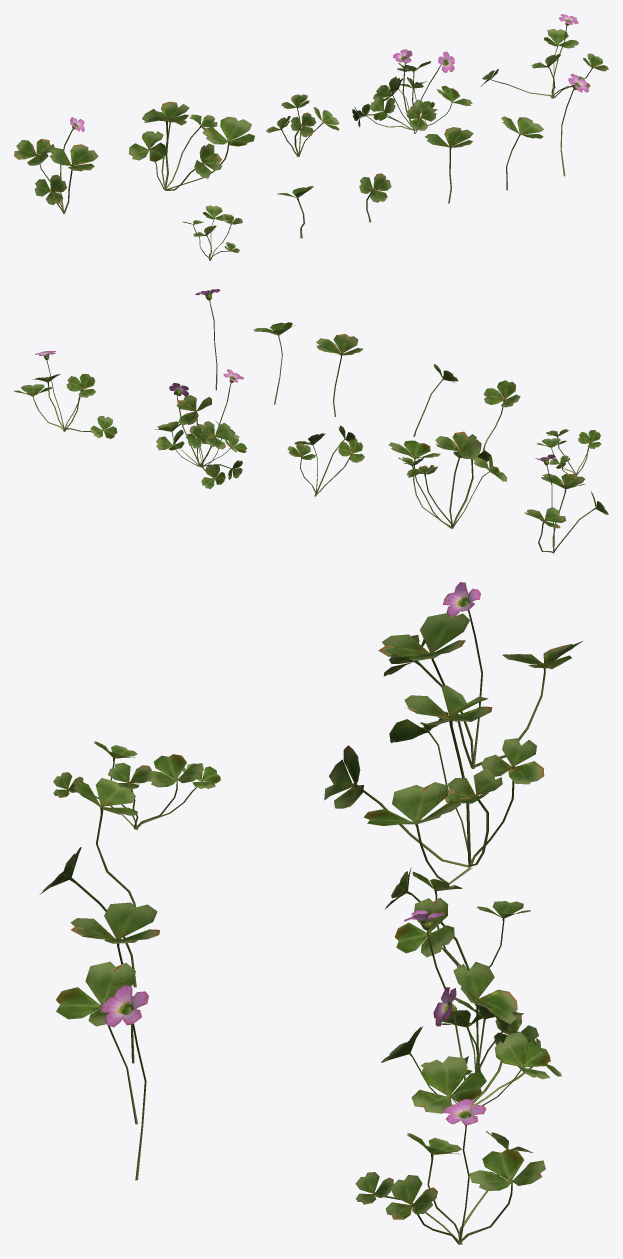
Rendered from shrub_sorrel_01.glb.
The picture shows the model from 3 angles, top to bottom: view 1: azimuth 30°, elevation 25°; view 2: azimuth 150°, elevation 25°; view 3: azimuth 270°, elevation 25°; orthographic projection. The views are drawn at different scales.
Parts seen in each view (by area): view 1: shrub_sorrel_01_lod0; view 2: shrub_sorrel_01_lod0; view 3: shrub_sorrel_01_lod0.
Boxes of the visible parts, x1,y1,x2,y2 form: shrub_sorrel_01_lod0: [14, 14, 608, 260]; shrub_sorrel_01_lod0: [14, 289, 608, 553]; shrub_sorrel_01_lod0: [39, 582, 582, 1244].
Size of what is drawn, in the model's own units: 0.3521 by 0.058 by 0.1464.
1 material, 1 textured.
